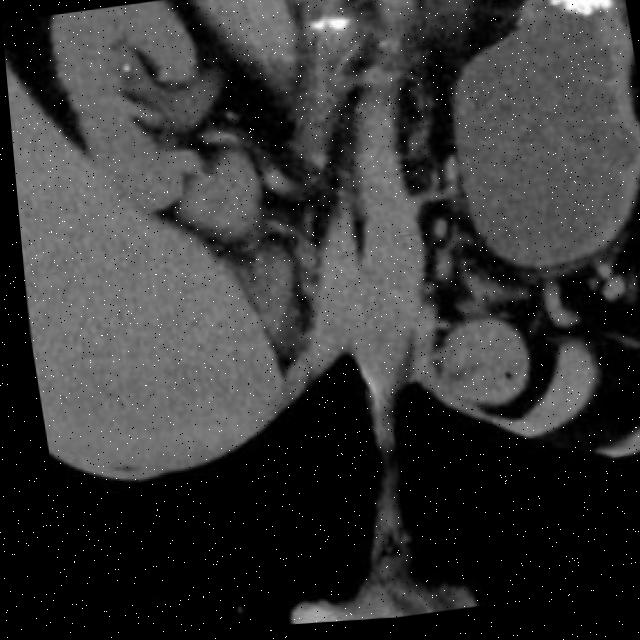Tas_Var: (541, 0, 624, 39), (321, 13, 353, 39), (304, 14, 328, 39), (114, 57, 134, 79), (597, 0, 616, 23), (579, 12, 591, 25), (548, 2, 558, 15), (573, 13, 582, 22)
